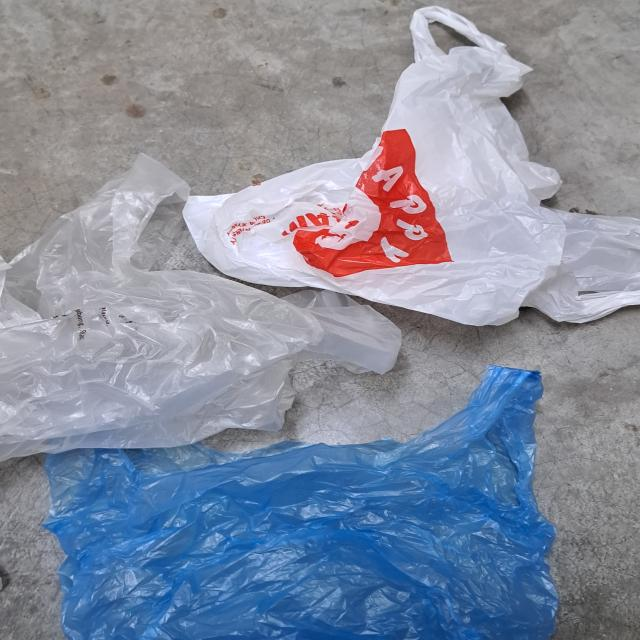plastic bag: (179, 6, 640, 329), (51, 364, 561, 640), (0, 154, 405, 457)
